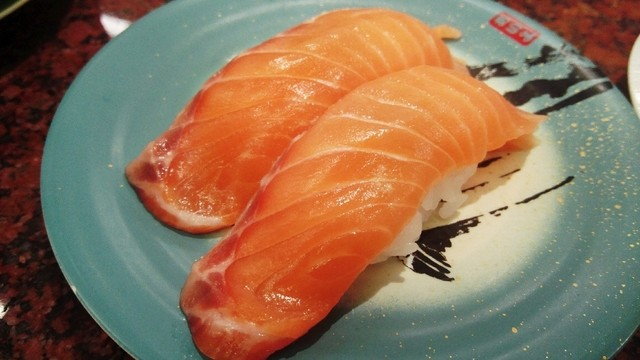salmon: (122, 2, 547, 360)
